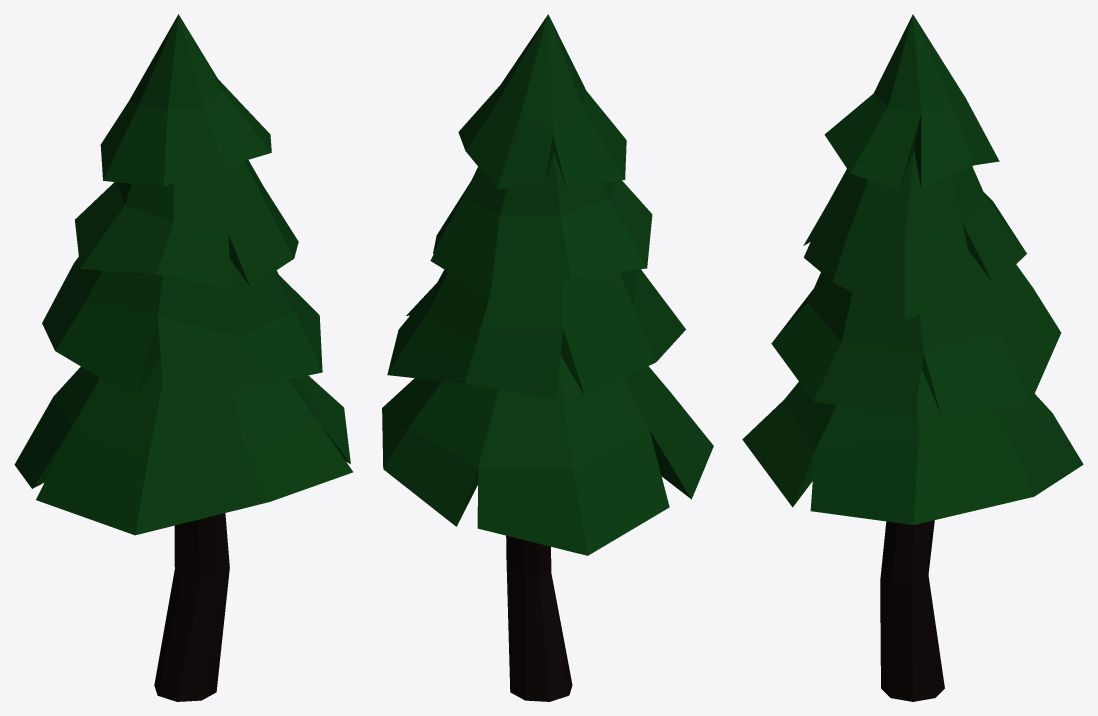
The model's file is lp_conifer5_Cylinder_004.obj.
3 views of the same model, side by side, from view 1: azimuth 30°, elevation 25°; view 2: azimuth 150°, elevation 25°; view 3: azimuth 270°, elevation 25° (orthographic).
Visible parts, largest first — view 1: lp_conifer5_Cylinder_004; view 2: lp_conifer5_Cylinder_004; view 3: lp_conifer5_Cylinder_004.
Part boxes in pixels (x1,y1,x2,y2): lp_conifer5_Cylinder_004: (14,14,352,701); lp_conifer5_Cylinder_004: (382,14,713,701); lp_conifer5_Cylinder_004: (742,14,1083,701).
Size of the model in its own units: 6.92 by 14.49 by 6.68.
